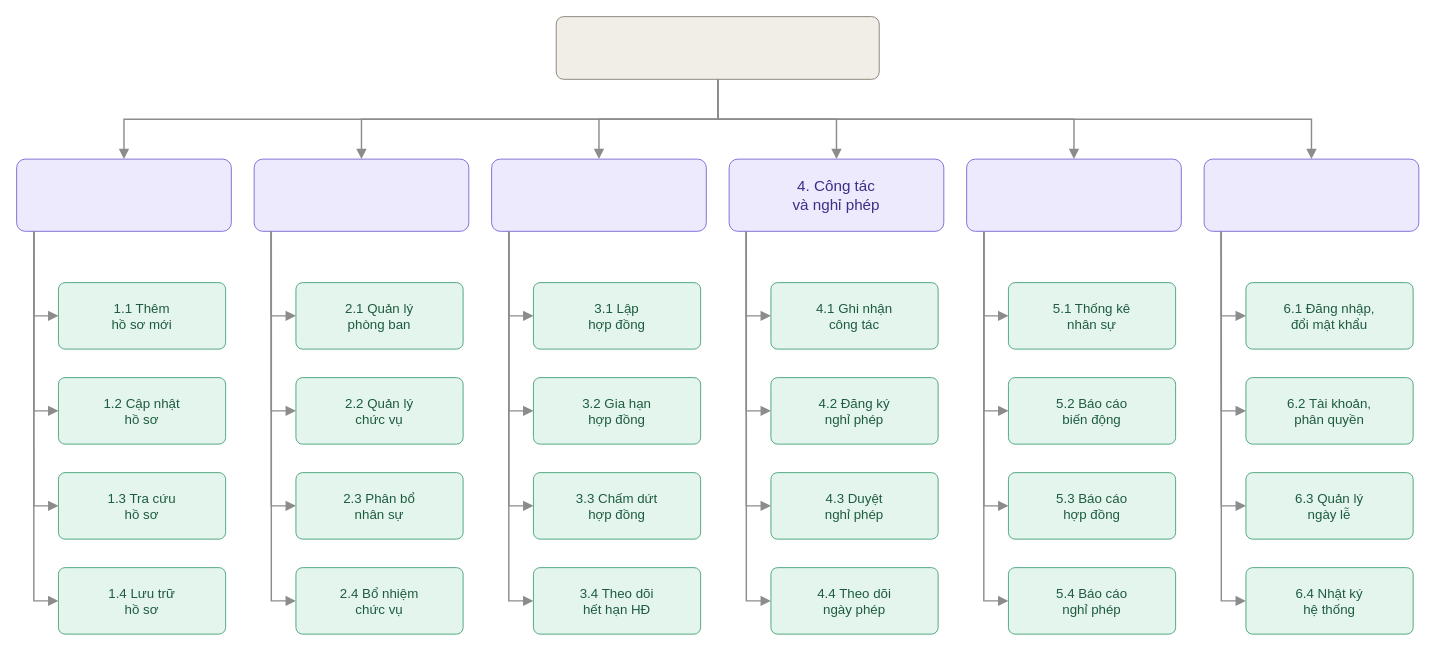
The diagram is 1435 pixels wide and 651 high, and some of its shapes have lost their labels. Each missing label, with the centre of its shape:
"0. Quản lý nhân sự" goes at point 717,47.
"1. Hồ sơ nhân viên" goes at point 123,194.
"2. Phòng ban và chức vụ" goes at point 361,194.
"3. Hợp đồng lao động" goes at point 598,194.
"5. Báo cáo nhân sự" goes at point 1073,194.
"6. Quản trị hệ thống" goes at point 1311,194.
